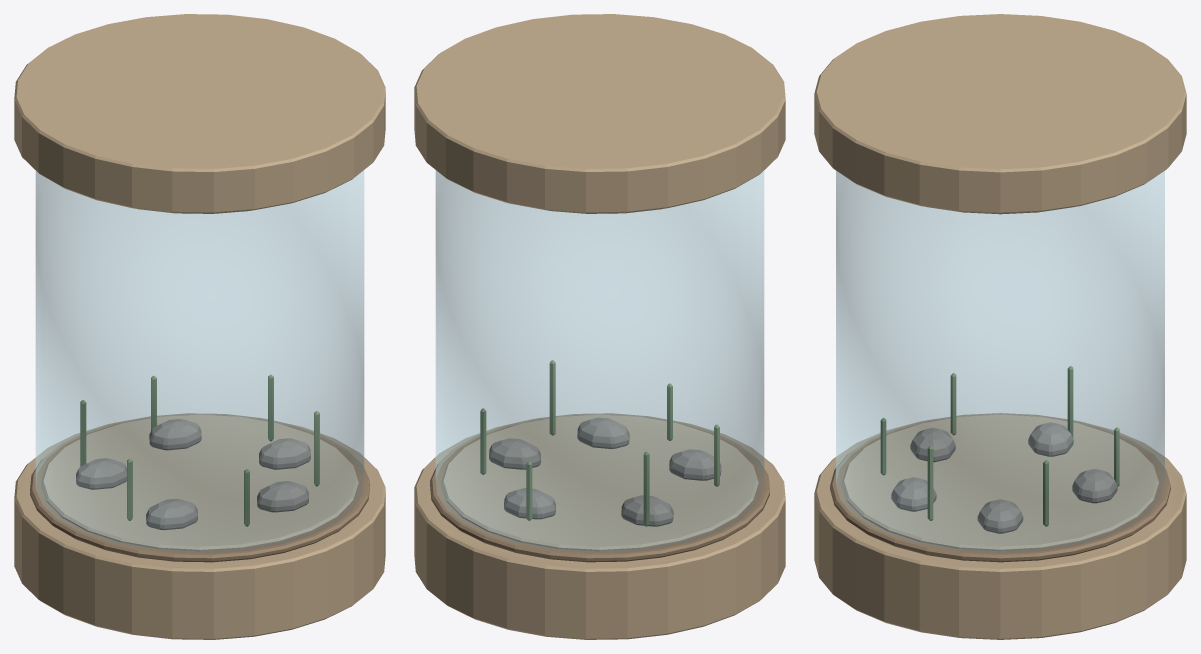
Rendered from furn_aquarium_pillar__oak.glb.
The picture shows the model from 3 angles, left to right: view 1: azimuth 30°, elevation 25°; view 2: azimuth 150°, elevation 25°; view 3: azimuth 270°, elevation 25°; orthographic projection.
Size of the model in its own units: 1.9 by 2.65 by 1.9.
